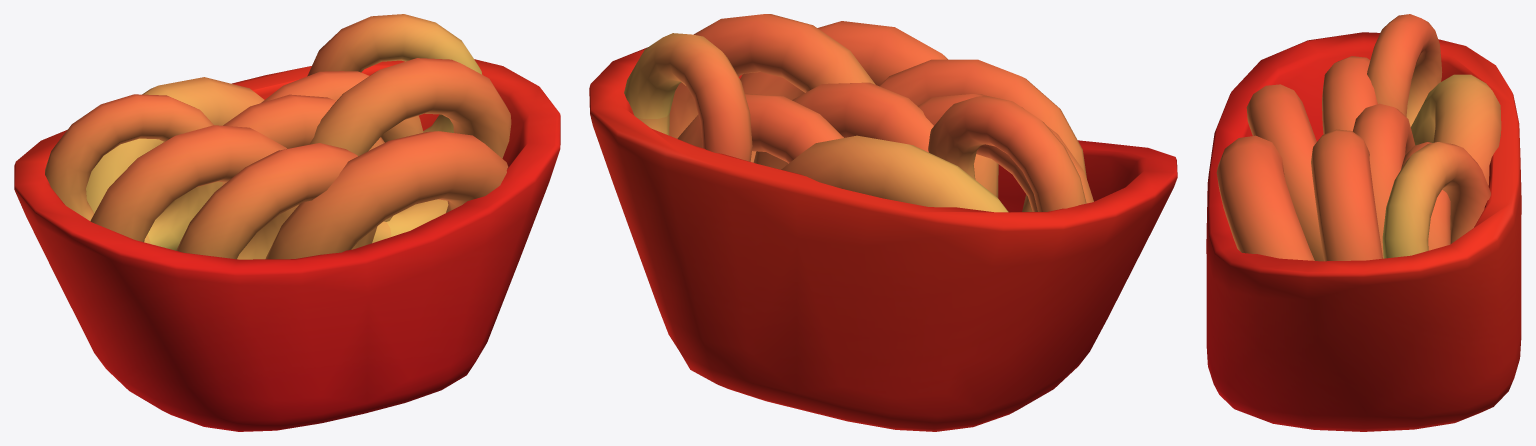
The model's file is Onion.fbx.
3 views of the same model, side by side, from view 1: azimuth 30°, elevation 25°; view 2: azimuth 150°, elevation 25°; view 3: azimuth 270°, elevation 25° (orthographic). The views are drawn at different scales.
Visible parts, largest first — view 1: Onion; view 2: Onion; view 3: Onion.
Boxes of the visible parts, x1=… form: Onion: x1=14, y1=14, x2=560, y2=431; Onion: x1=589, y1=14, x2=1177, y2=431; Onion: x1=1206, y1=14, x2=1521, y2=431.
Size of the model in its own units: 63.81 by 35.65 by 35.17.
